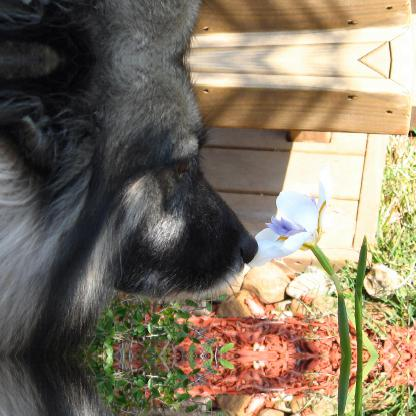Dog: (0, 59, 257, 356), (0, 0, 257, 60)
